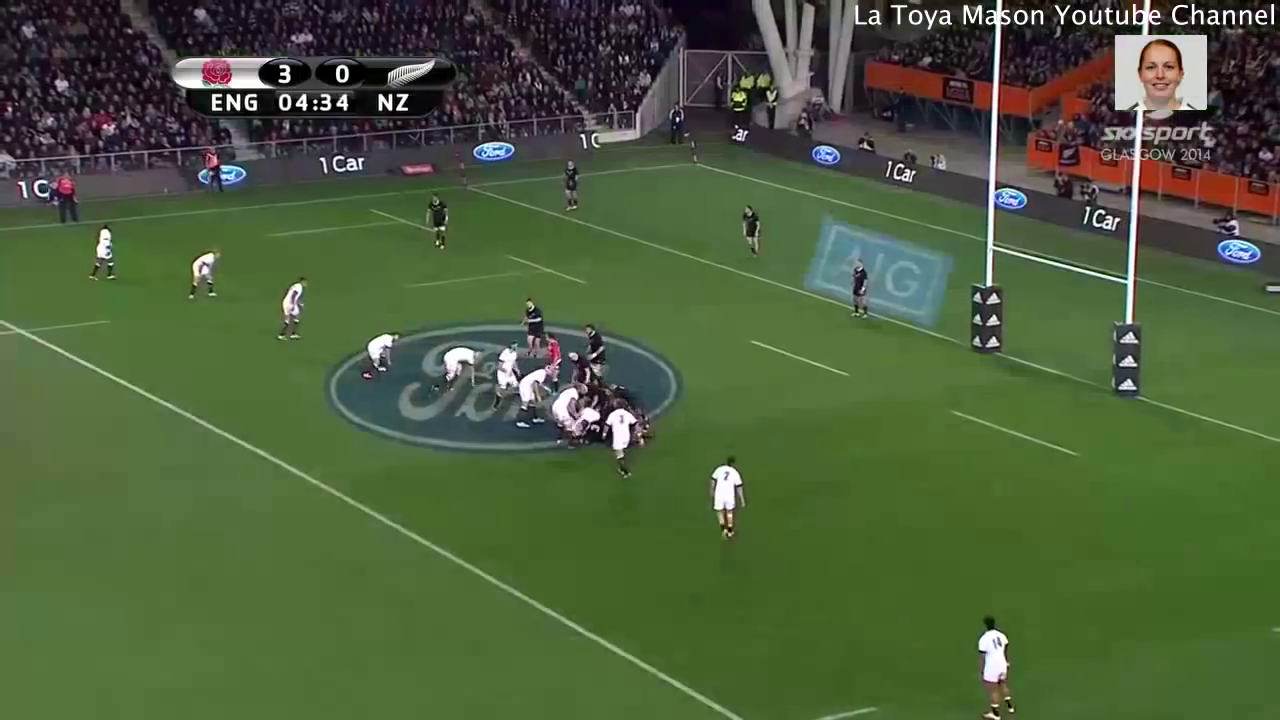player: (960, 608, 1032, 720), (702, 447, 755, 548), (423, 335, 486, 406), (600, 395, 644, 486), (413, 184, 461, 258), (269, 271, 313, 348), (352, 323, 403, 386), (82, 219, 125, 287), (182, 240, 225, 305), (553, 374, 587, 454), (491, 337, 524, 415), (840, 253, 873, 325), (735, 200, 772, 262), (553, 153, 588, 218), (577, 317, 612, 380), (561, 340, 606, 384), (517, 296, 546, 363), (539, 329, 566, 395)
post: (955, 119, 1154, 414)
ruck: (553, 377, 669, 447)
